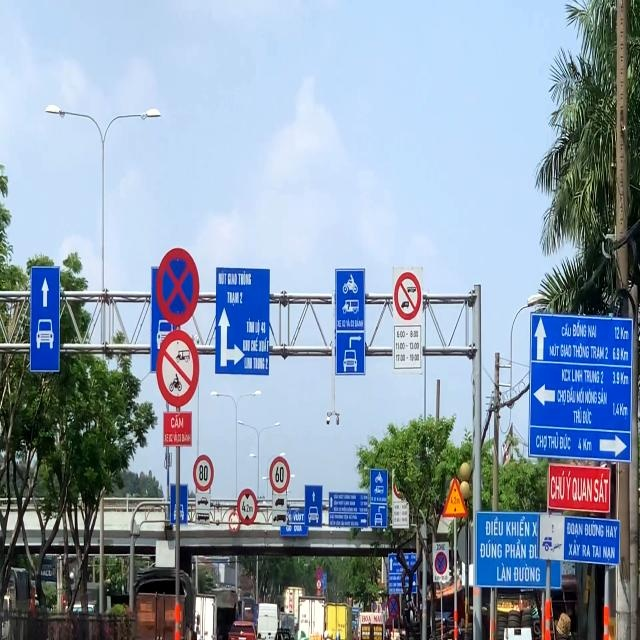bien_chi_dan: (156, 247, 200, 326), (442, 476, 468, 518), (193, 454, 214, 492), (269, 456, 290, 494), (237, 488, 258, 525), (435, 552, 447, 574), (388, 594, 399, 618), (316, 567, 322, 579)
